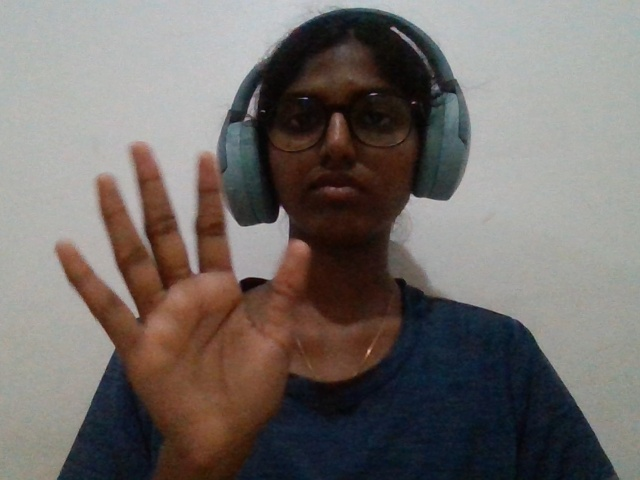Bye: (5, 119, 339, 479)
